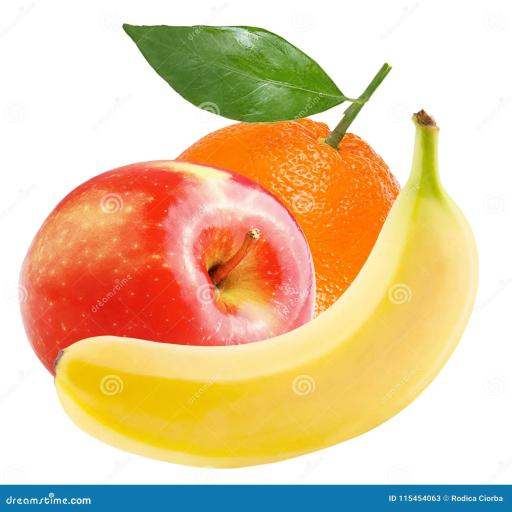apple: (21, 161, 314, 372)
banana: (56, 112, 477, 467)
orange: (178, 119, 399, 315)
